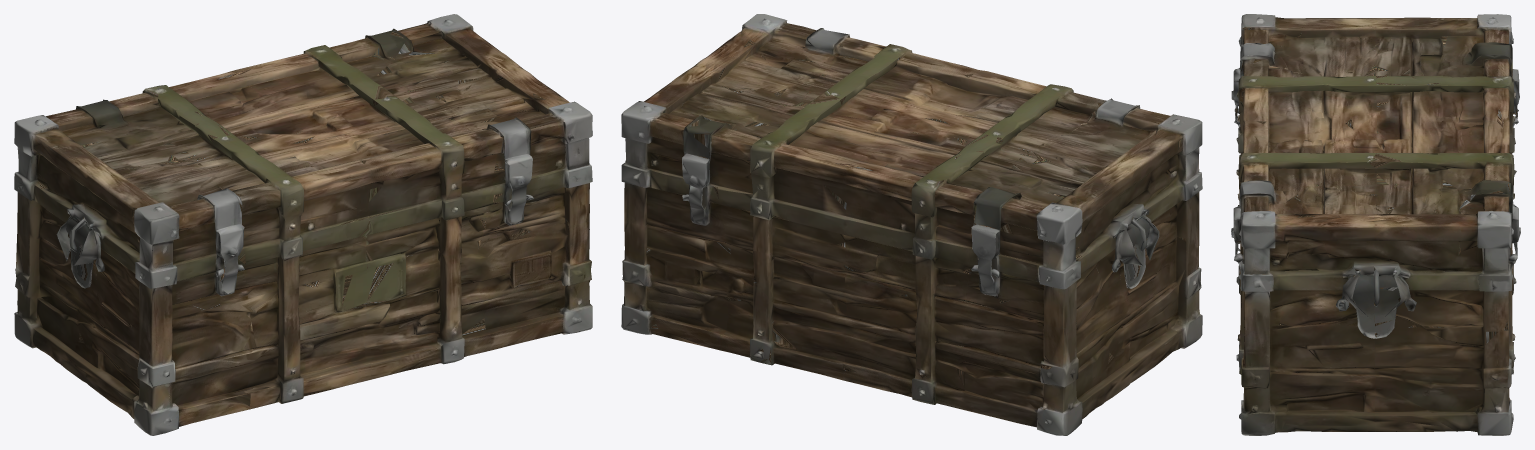
The model's file is crate.glb.
3 renders of one model, left to right at view 1: azimuth 30°, elevation 25°; view 2: azimuth 150°, elevation 25°; view 3: azimuth 270°, elevation 25°, orthographic. The views are drawn at different scales.
Parts seen in each view (by area): view 1: tripo_node_e88c4a06-841c-4be0-b762-8ec662b6b7e0; view 2: tripo_node_e88c4a06-841c-4be0-b762-8ec662b6b7e0; view 3: tripo_node_e88c4a06-841c-4be0-b762-8ec662b6b7e0.
Boxes of the visible parts, box(x1,y1,x2,y2) form: tripo_node_e88c4a06-841c-4be0-b762-8ec662b6b7e0: box(14, 14, 592, 435); tripo_node_e88c4a06-841c-4be0-b762-8ec662b6b7e0: box(621, 14, 1202, 435); tripo_node_e88c4a06-841c-4be0-b762-8ec662b6b7e0: box(1231, 14, 1520, 435).
Bounding box in the file's own units: 0.9994 × 0.4533 × 0.5468.
Materials: 1 (1 with a texture image).
